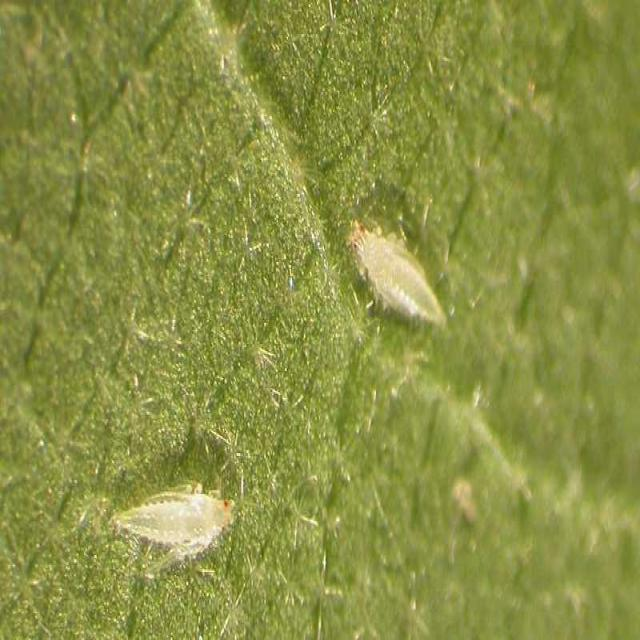Thrip-Larva-: (109, 477, 246, 595), (337, 204, 456, 333)
